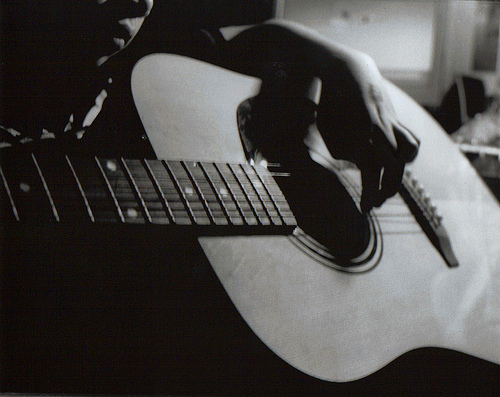guitar: (1, 51, 498, 386)
